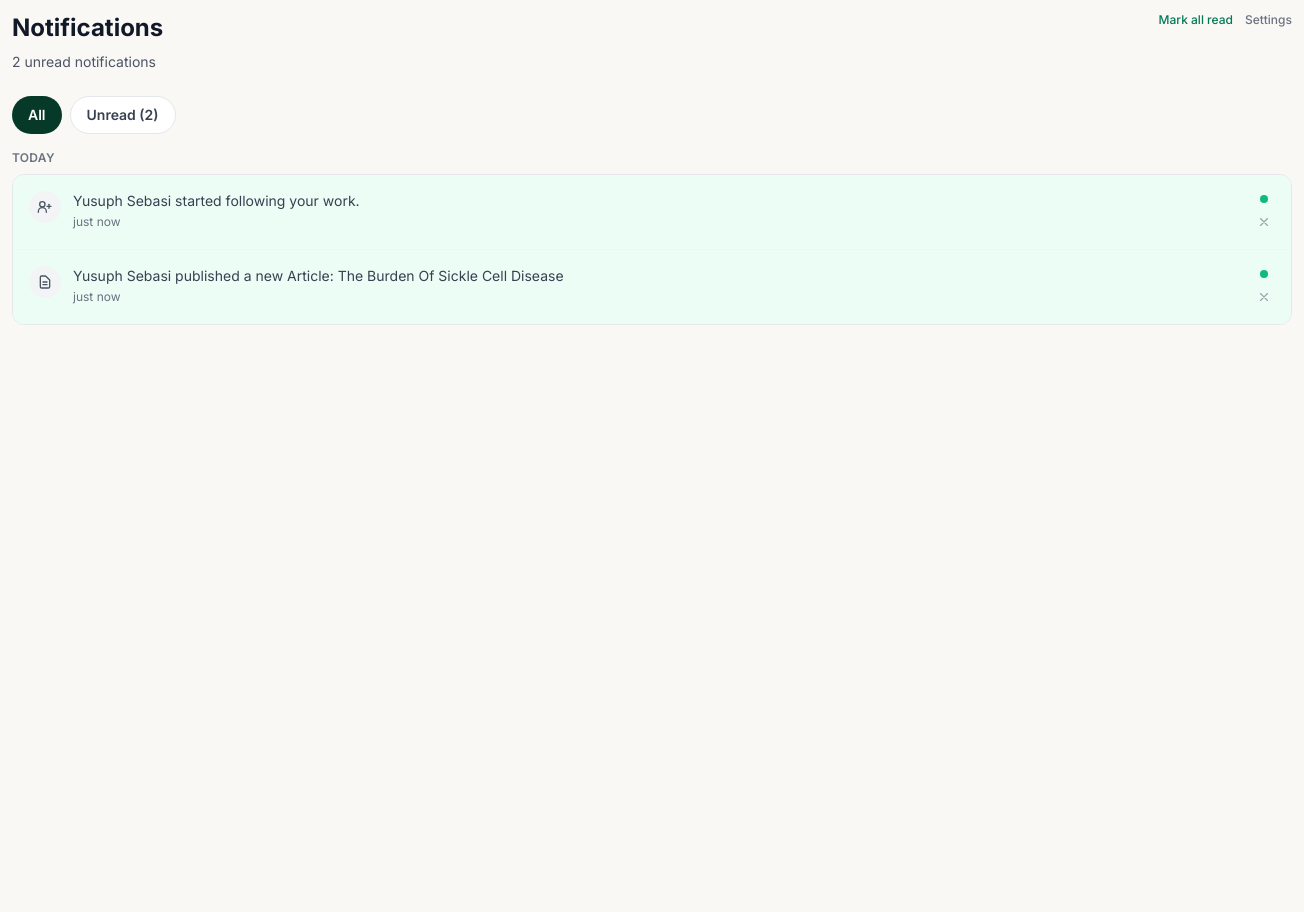
Test case: dismissing a notification › puts the row back when the dismiss write fails
Click the button named "Dismiss notification: Yusuph Sebasi published": click(1264, 297) left=1253, top=286, right=1275, bottom=308
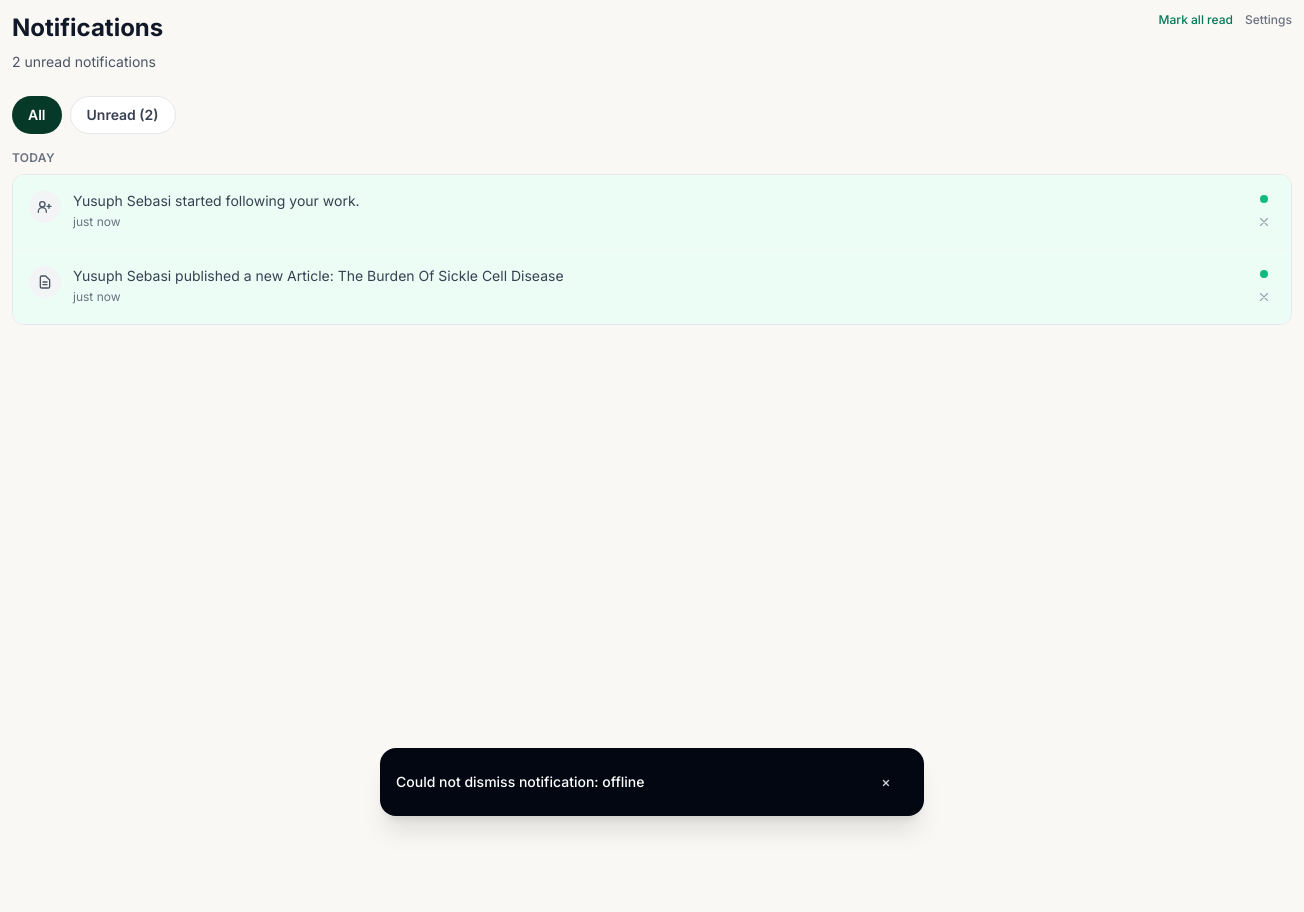
Check: the text "published a new Article" is shown, box left=73, top=267, right=564, bottom=284
Check: the message shows "Could not dismiss", box left=396, top=773, right=644, bottom=790
